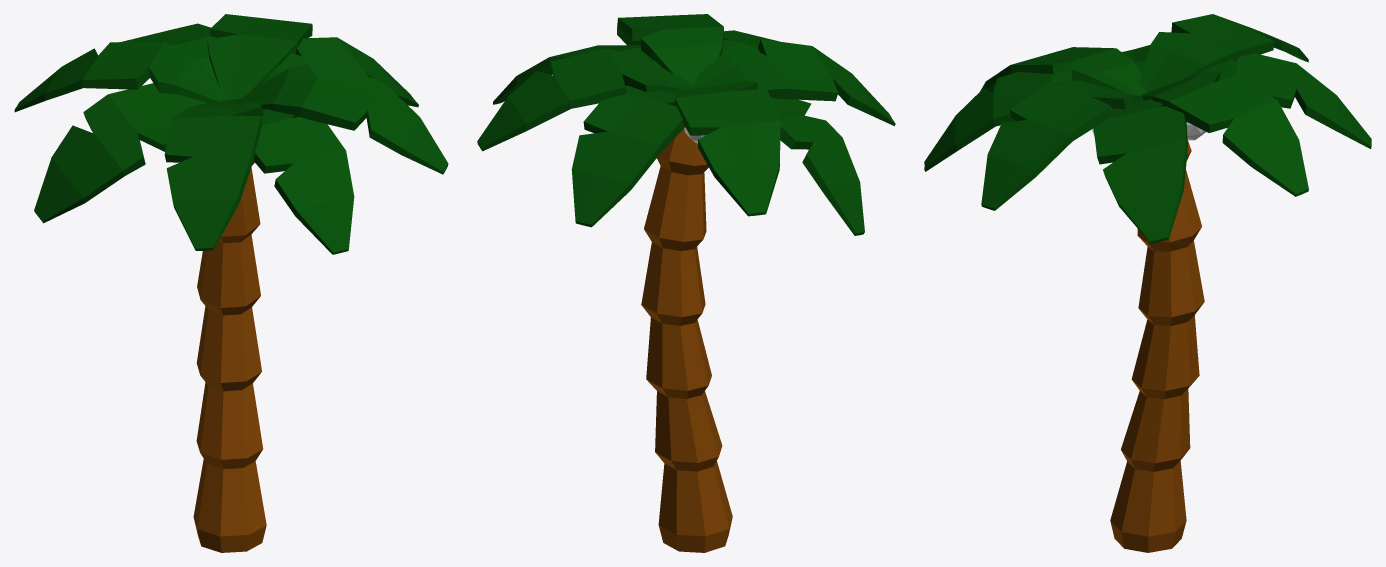
Rendered from palm boom.fbx.
The picture shows the model from 3 angles, left to right: view 1: azimuth 30°, elevation 25°; view 2: azimuth 150°, elevation 25°; view 3: azimuth 270°, elevation 25°; orthographic projection.
Parts seen in each view (by area): view 1: Palm tree; view 2: Palm tree; view 3: Palm tree.
Boxes of the visible parts, left/top/right/bottom form: Palm tree: left=14, top=14, right=448, bottom=552; Palm tree: left=477, top=14, right=895, bottom=552; Palm tree: left=924, top=14, right=1371, bottom=552.
Bounding box in the file's own units: 3.25 × 4 × 3.41.
